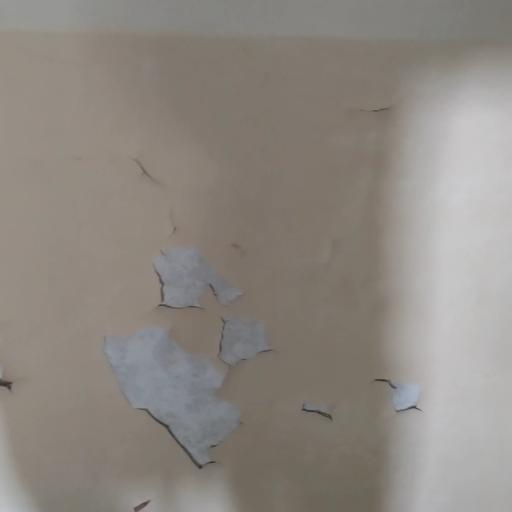peeling: (94, 134, 286, 477)
